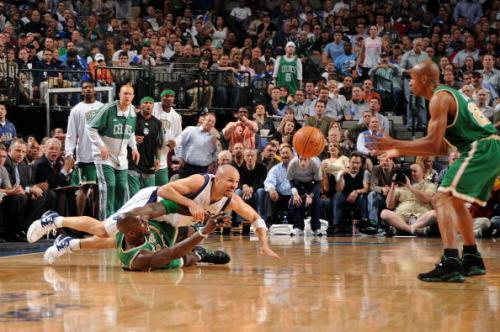10+: (2, 1, 499, 283)
down: (18, 161, 290, 271), (106, 190, 239, 278)
